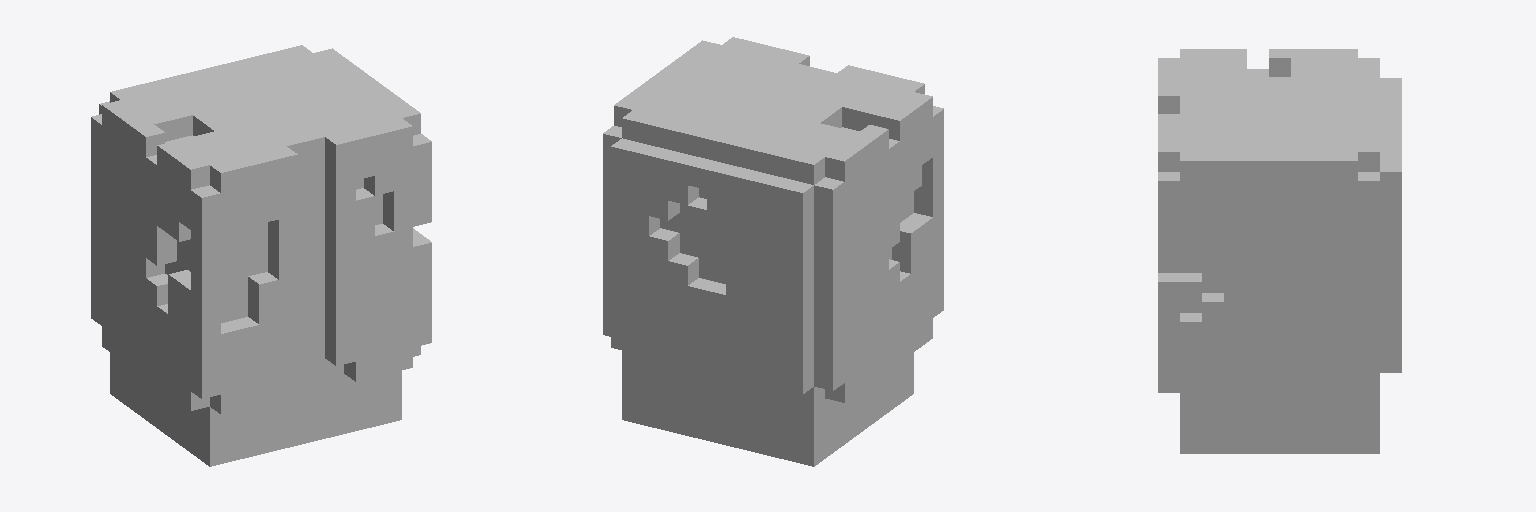
Rendered from Body zombie.obj.
3 renders of one model, left to right at view 1: azimuth 30°, elevation 25°; view 2: azimuth 150°, elevation 25°; view 3: azimuth 270°, elevation 25°, orthographic.
Parts seen in each view (by area): view 1: object 1; view 2: object 1; view 3: object 1.
Part boxes in pixels (x1,y1,x2,y2): object 1: (91, 45, 431, 466); object 1: (603, 37, 943, 466); object 1: (1158, 49, 1401, 453).
Size of the model in its own units: 1.2 by 1.5 by 1.1.